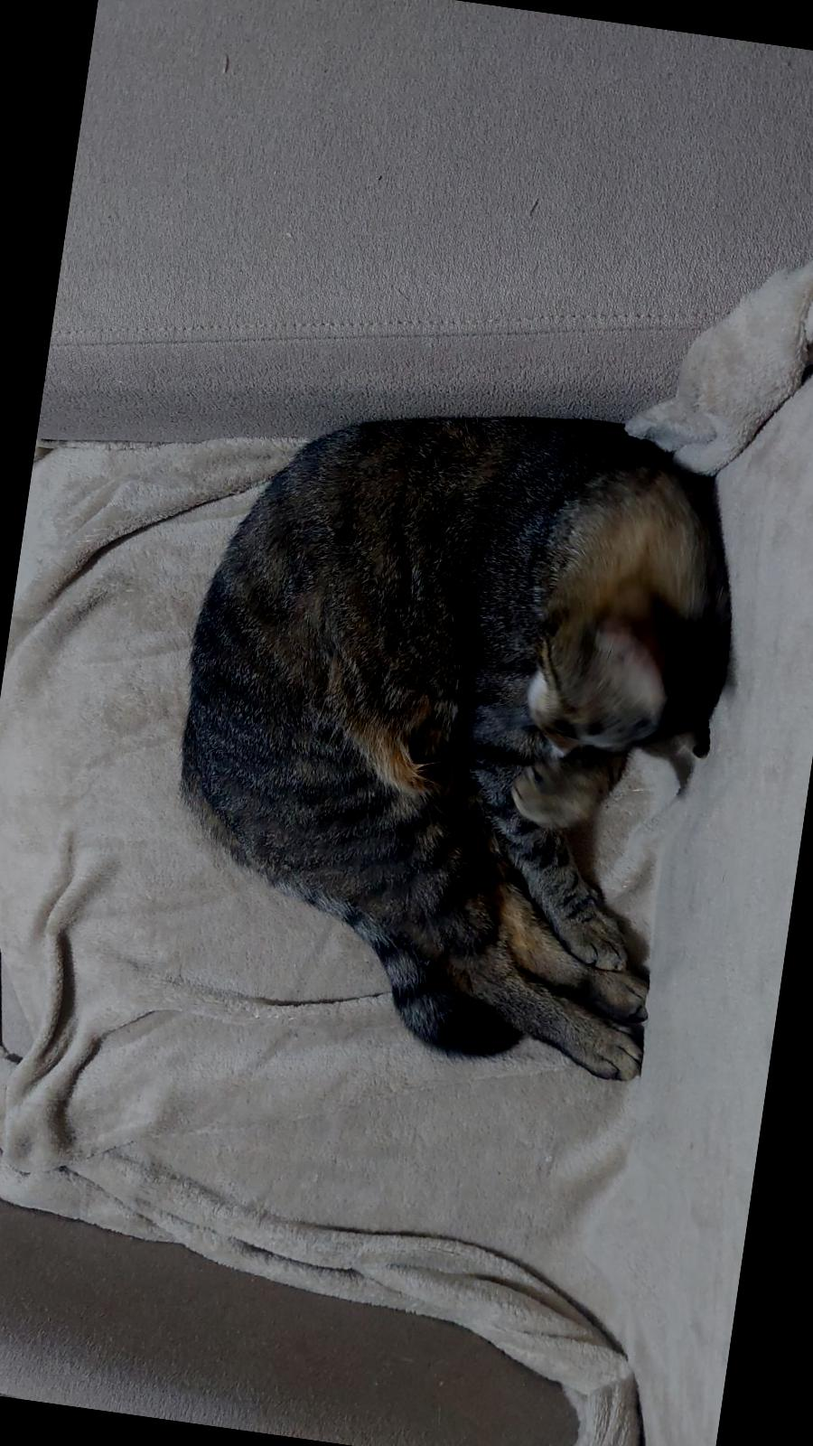macka: (138, 365, 760, 1090)
